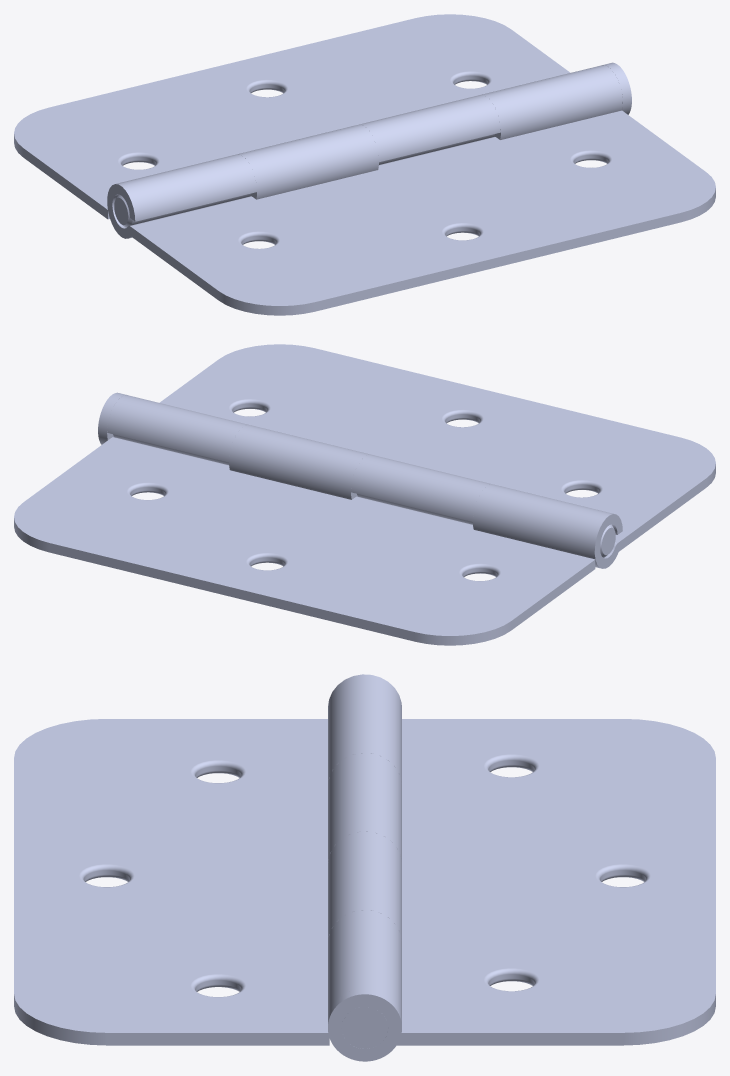
3 renders of one model, top to bottom at view 1: azimuth 30°, elevation 25°; view 2: azimuth 150°, elevation 25°; view 3: azimuth 270°, elevation 25°, orthographic. The views are drawn at different scales.
Parts seen in each view (by area): view 1: cw-06-01-01-2, cw-06-01-01-1, cw-06-01-02-1; view 2: cw-06-01-01-1, cw-06-01-01-2, cw-06-01-02-1; view 3: cw-06-01-01-2, cw-06-01-01-1, cw-06-01-02-1.
Boxes of the visible parts, <box> form: cw-06-01-01-2: <box>107,95,715,315</box>; cw-06-01-01-1: <box>14,14,622,219</box>; cw-06-01-02-1: <box>114,62,631,227</box>; cw-06-01-01-1: <box>14,395,595,645</box>; cw-06-01-01-2: <box>159,344,715,568</box>; cw-06-01-02-1: <box>98,392,615,557</box>; cw-06-01-01-2: <box>14,674,401,1045</box>; cw-06-01-01-1: <box>328,719,715,1045</box>; cw-06-01-02-1: <box>328,988,401,1061</box>.
Bounding box in the file's own units: 0.0815 × 0.008 × 0.0756.
